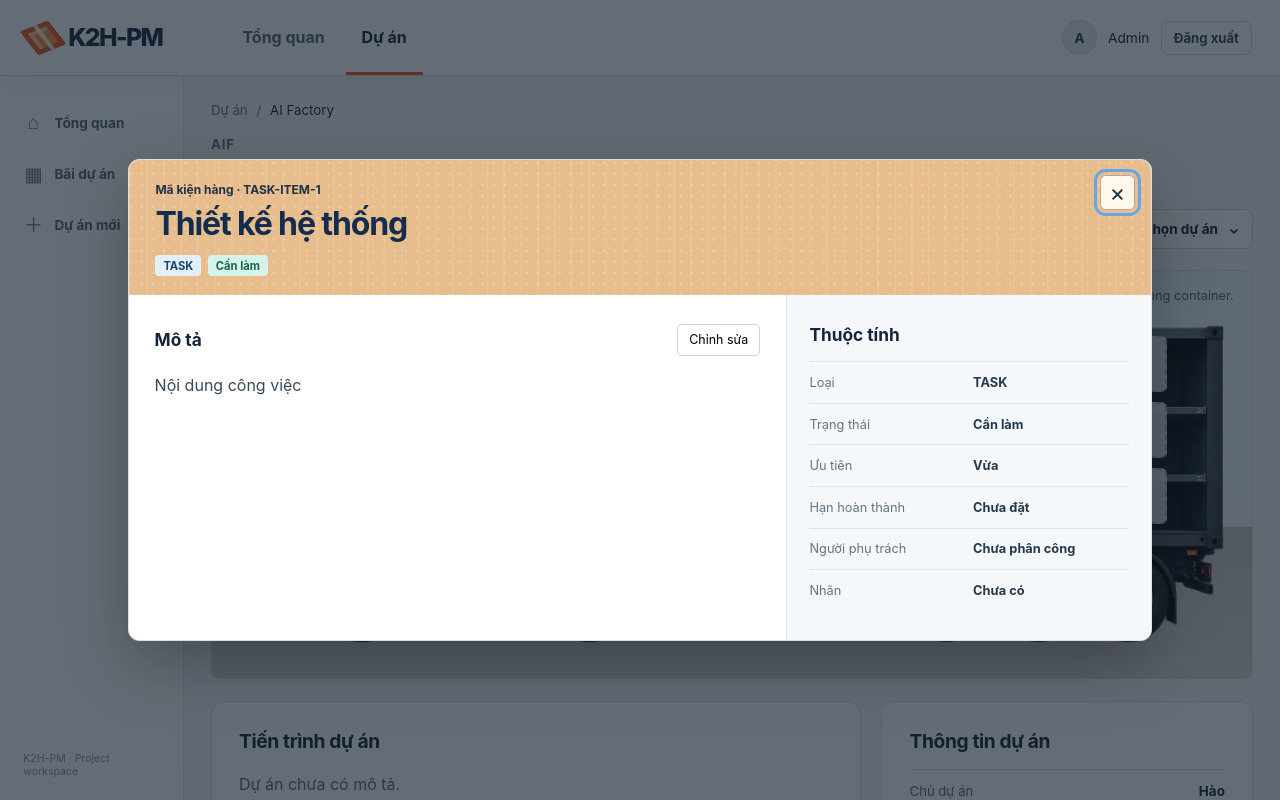
Test case: ProjectDetailPage › opens an item from a direct URL and closes back to the project
Expected: the dialog named "Chi tiết Thiết kế hệ thống" is shown, [128, 159, 1152, 641]
What coordinates should you click on to do the following:
click the button named "Đóng chi tiết"
I would click on:
 (1117, 192)
Its box is [1100, 175, 1135, 210].
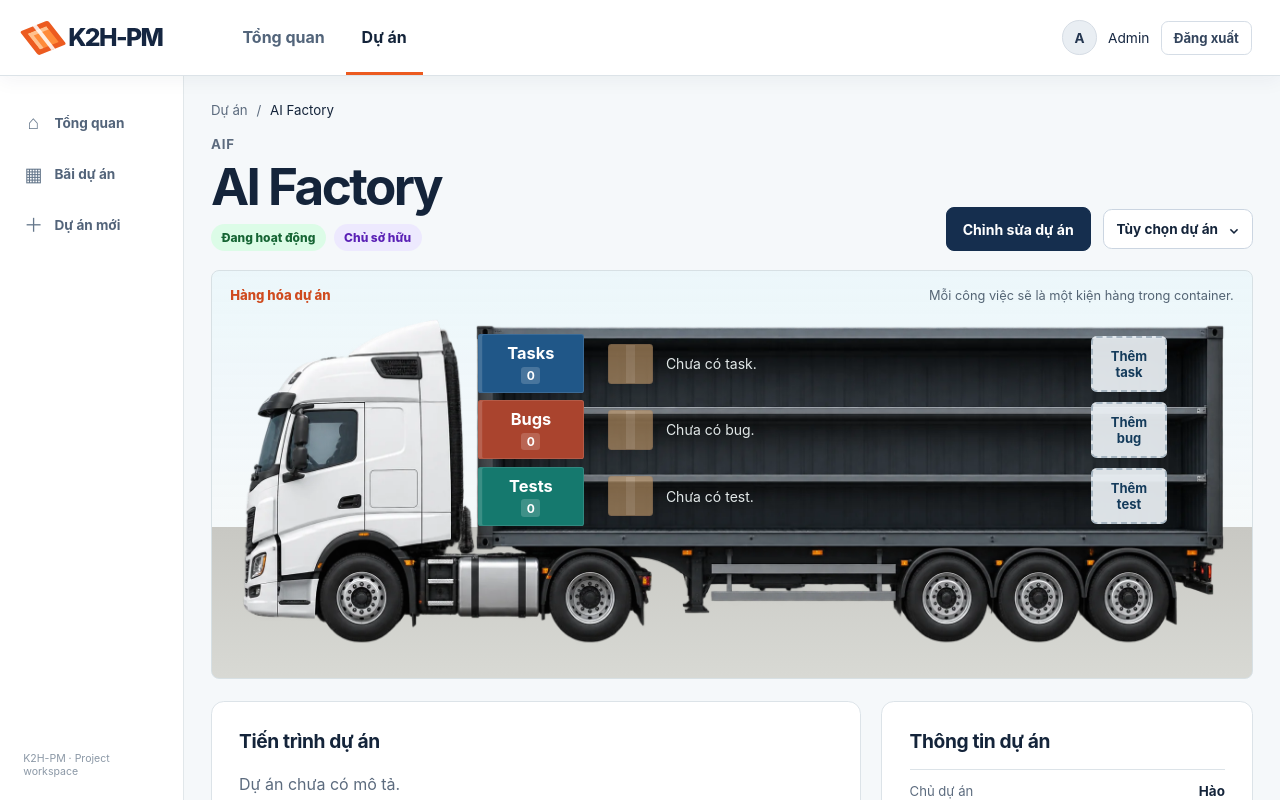
Expected: the dialog is gone
